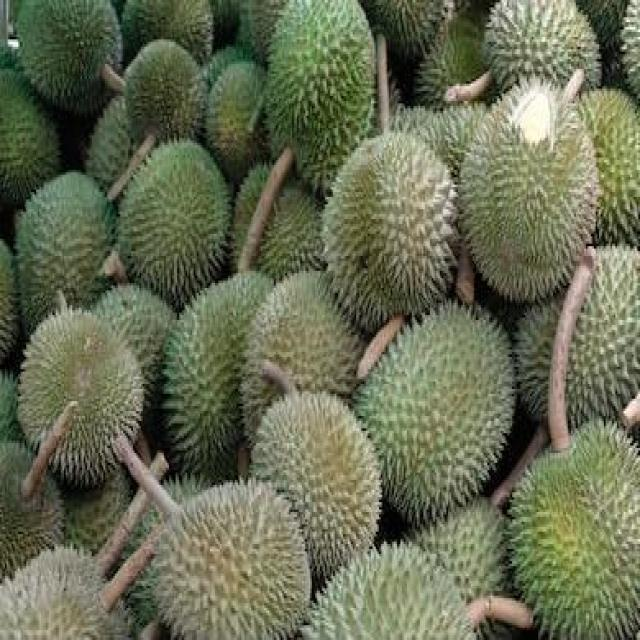defective: (458, 63, 600, 302)
immature: (358, 300, 518, 534), (502, 413, 640, 640), (321, 127, 461, 336), (162, 266, 276, 474), (263, 0, 376, 195), (20, 305, 145, 478), (119, 129, 232, 308), (13, 173, 112, 333), (16, 0, 122, 120)
mature: (155, 470, 314, 640), (253, 394, 384, 568)
